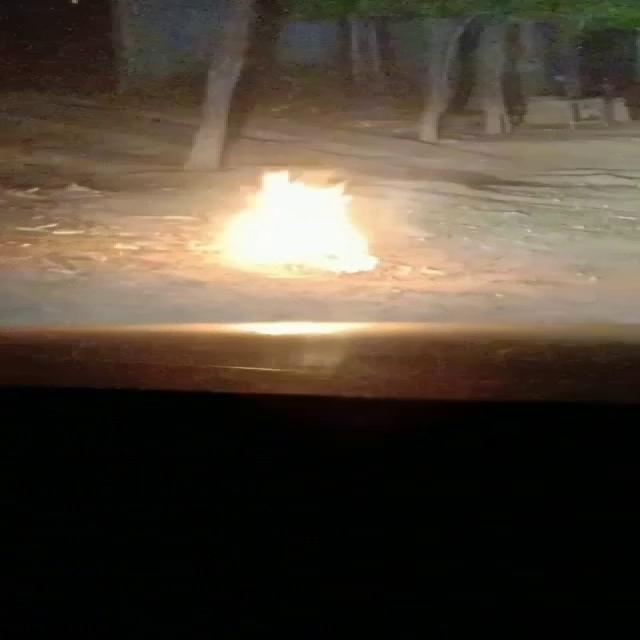Fire: (196, 170, 382, 282)
